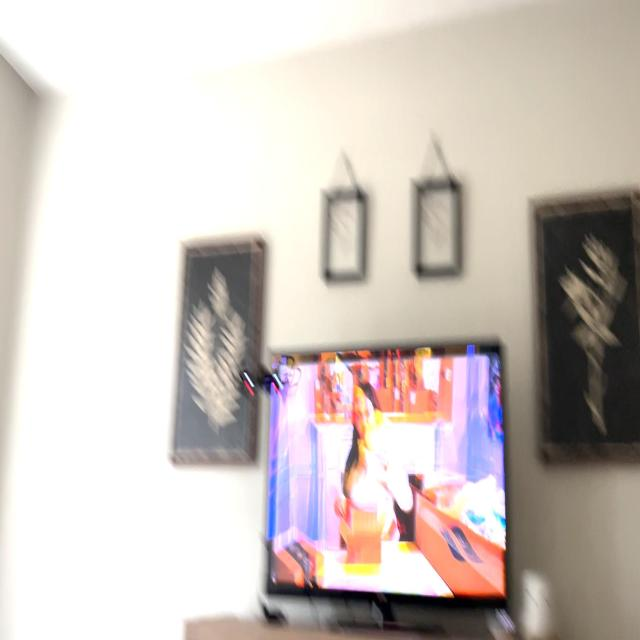drone: (213, 335, 307, 413)
